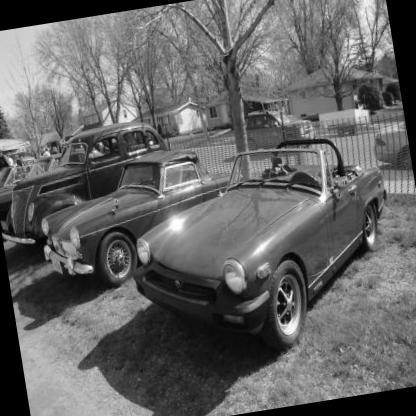car: (107, 114, 416, 374), (31, 136, 235, 299)
